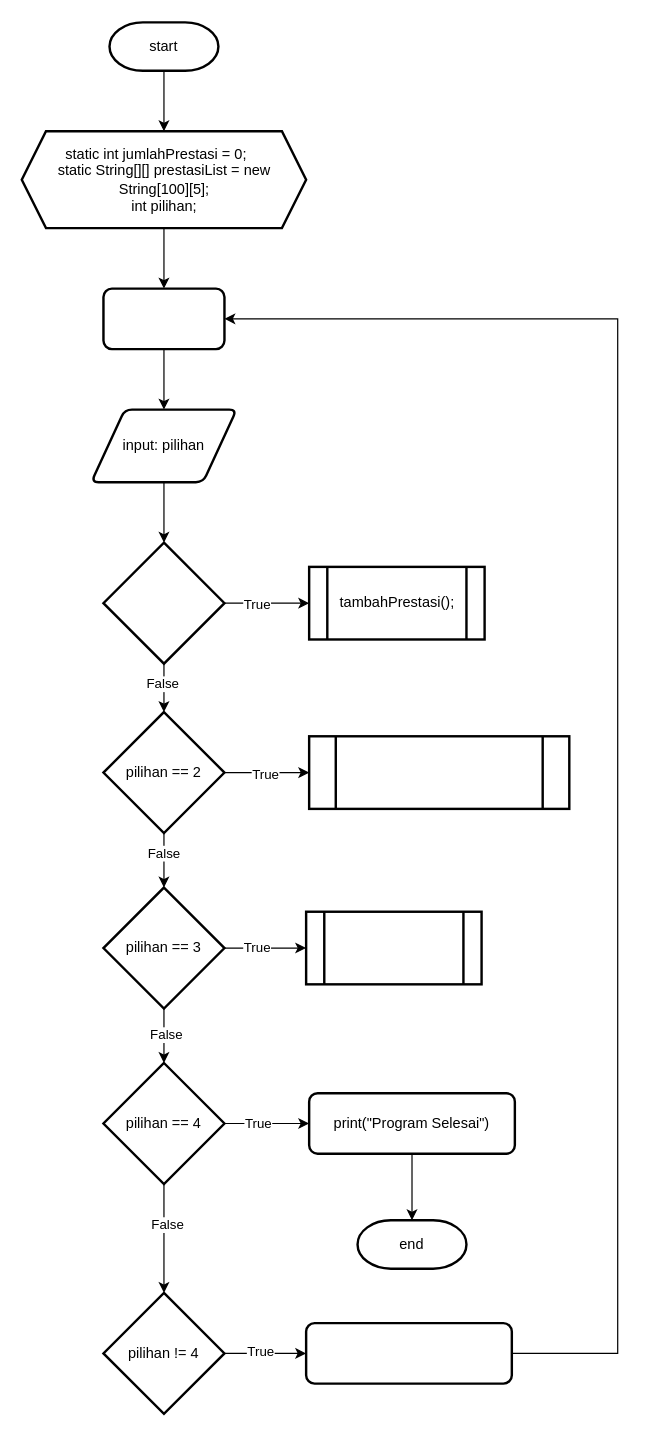
Some shapes in this 649 by 1435 pixel diagram are drawn without their labels. Here are the shapes that lost their labels. From the top down, the box of each, then its label:
(102, 287, 225, 350): print menu
(102, 541, 225, 664): pilihan == 1
(307, 734, 570, 809): tampilkanSemuaPrestasi();
(304, 910, 482, 985): analisisPrestasi();
(304, 1321, 512, 1384): print("Pilihan tidak valid")
